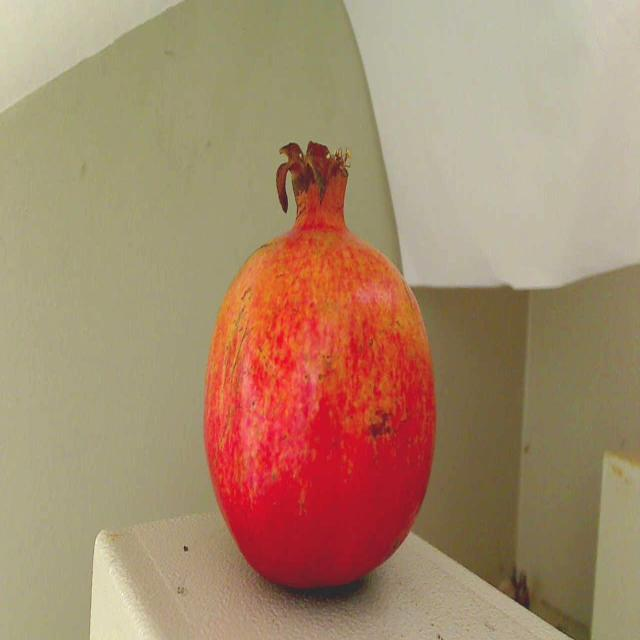pomegranate: (198, 122, 450, 611)
